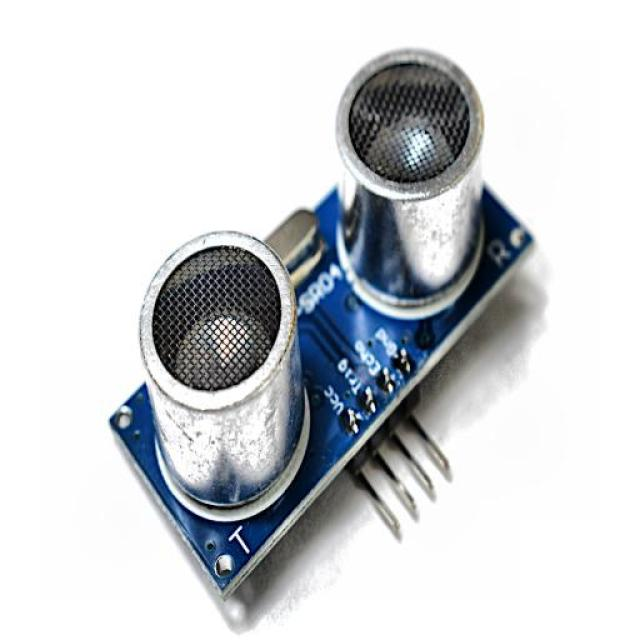Ultrasonic Sensor: (33, 23, 618, 634)
